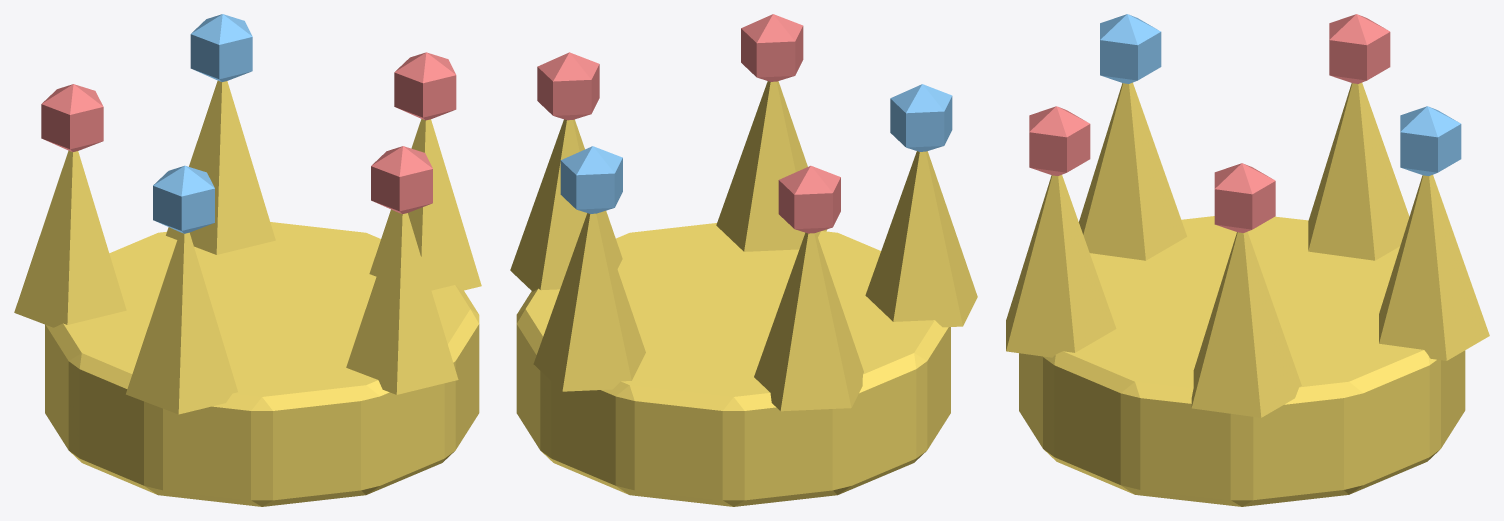
Rendered from CF_HatCrown.fbx.
3 renders of one model, left to right at view 1: azimuth 30°, elevation 25°; view 2: azimuth 150°, elevation 25°; view 3: azimuth 270°, elevation 25°, orthographic. The views are drawn at different scales.
Visible parts, largest first — view 1: CF_HatCrown_Gold, CF_HatCrown_Gem, CF_HatCrown_GemB; view 2: CF_HatCrown_Gold, CF_HatCrown_Gem, CF_HatCrown_GemB; view 3: CF_HatCrown_Gold, CF_HatCrown_Gem, CF_HatCrown_GemB.
Boxes of the visible parts, box(x1,y1,x2,y2) form: CF_HatCrown_Gold: box(14, 80, 481, 506); CF_HatCrown_Gem: box(41, 52, 456, 214); CF_HatCrown_GemB: box(153, 14, 252, 233); CF_HatCrown_Gold: box(510, 81, 977, 506); CF_HatCrown_Gem: box(537, 14, 840, 233); CF_HatCrown_GemB: box(560, 84, 952, 213); CF_HatCrown_Gold: box(1006, 82, 1489, 506); CF_HatCrown_Gem: box(1029, 14, 1390, 232); CF_HatCrown_GemB: box(1100, 14, 1461, 175).
Size of the model in its own units: 1.22 by 0.95 by 1.24.
